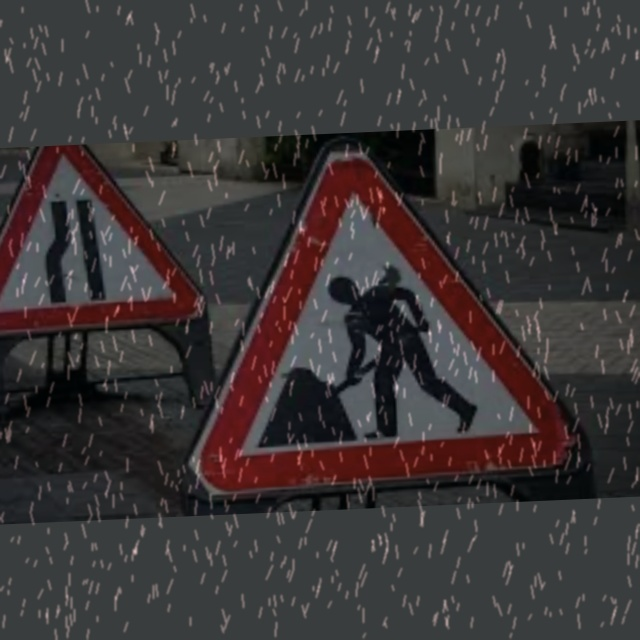Men_at_Work: (179, 168, 569, 506)
